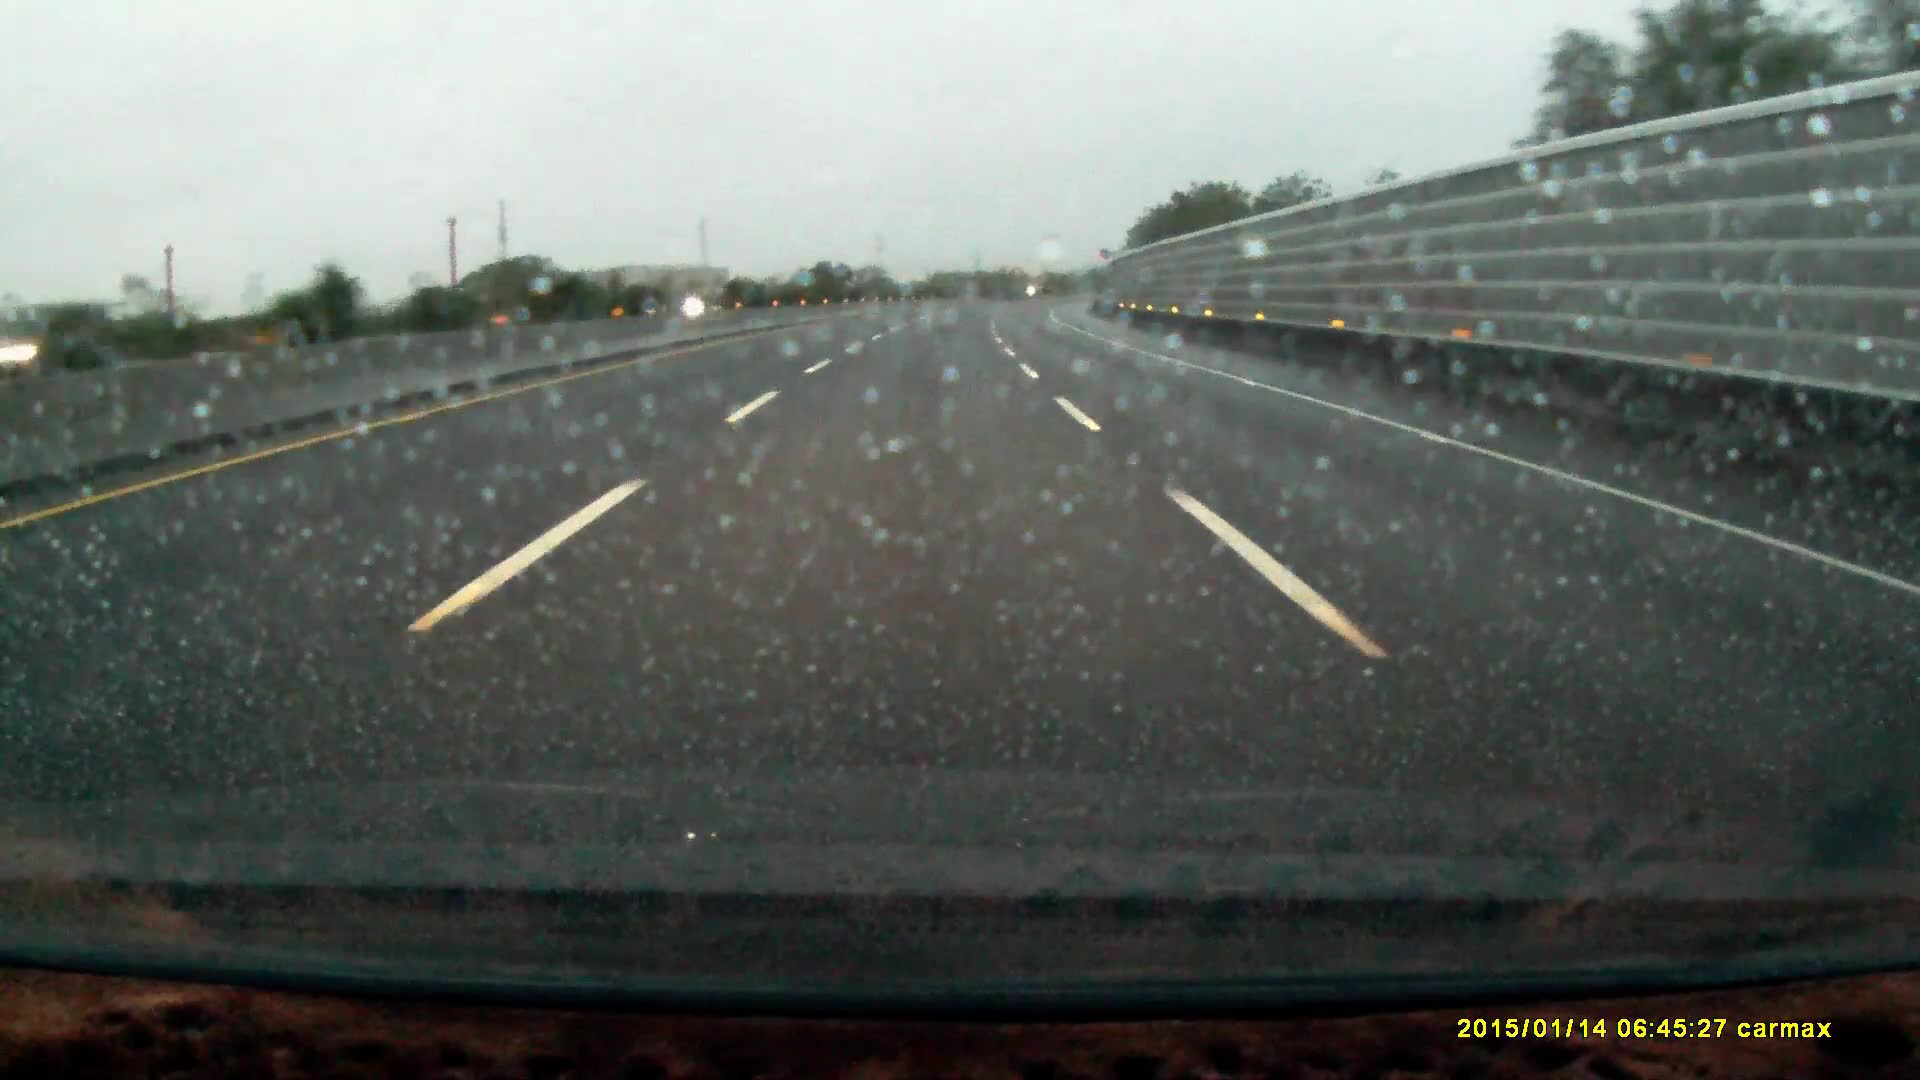vehicle: (674, 287, 732, 311)
